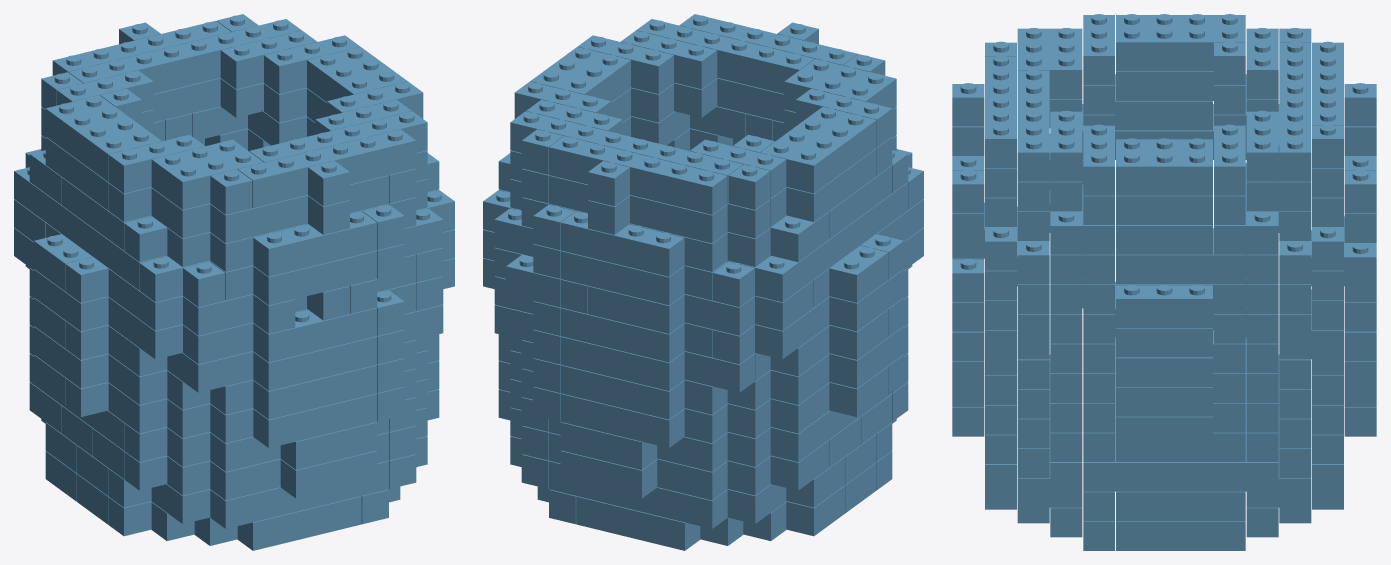
File: 208_pot_L3.glb
The picture shows the model from 3 angles, left to right: view 1: azimuth 30°, elevation 25°; view 2: azimuth 150°, elevation 25°; view 3: azimuth 270°, elevation 25°; orthographic projection. The views are drawn at different scales.
Bounding box in the file's own units: 12.98 × 13.13 × 12.98.
